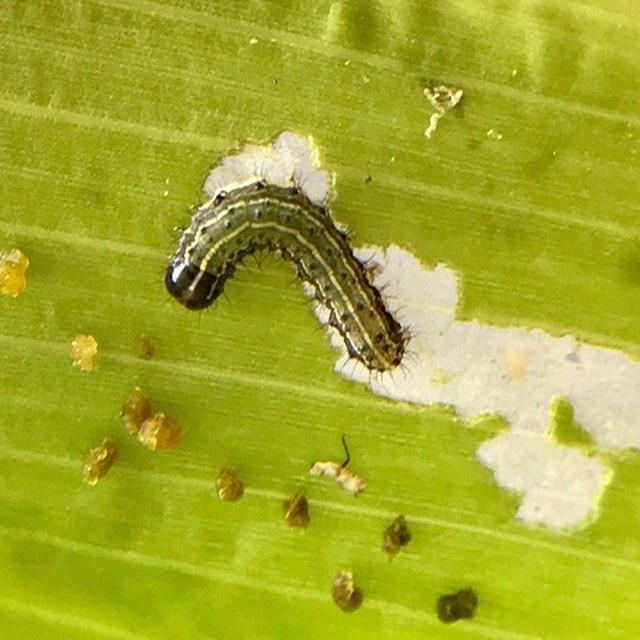yellow-stem-borer-larva: (138, 167, 435, 398)
